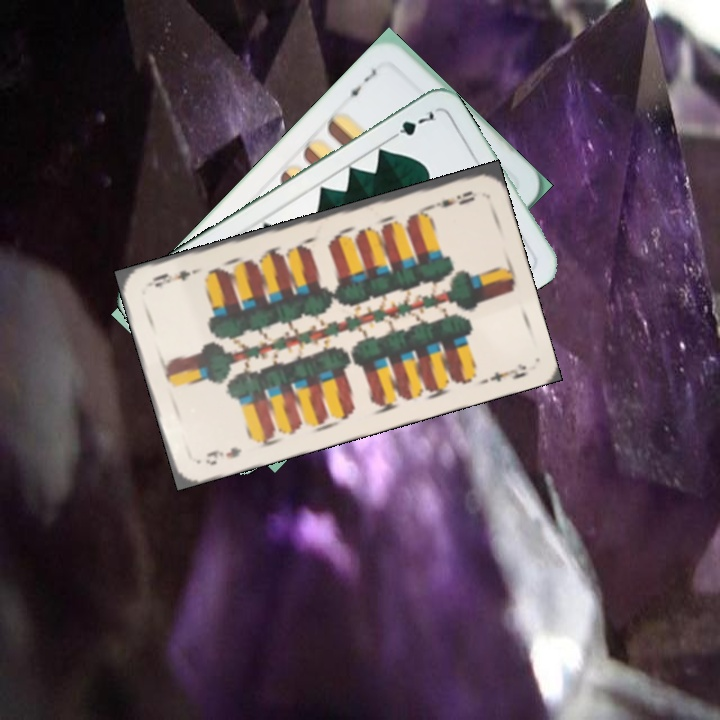E7: (342, 64, 380, 105)
E9: (423, 187, 480, 213), (201, 443, 244, 468)
G7: (385, 106, 437, 144)
